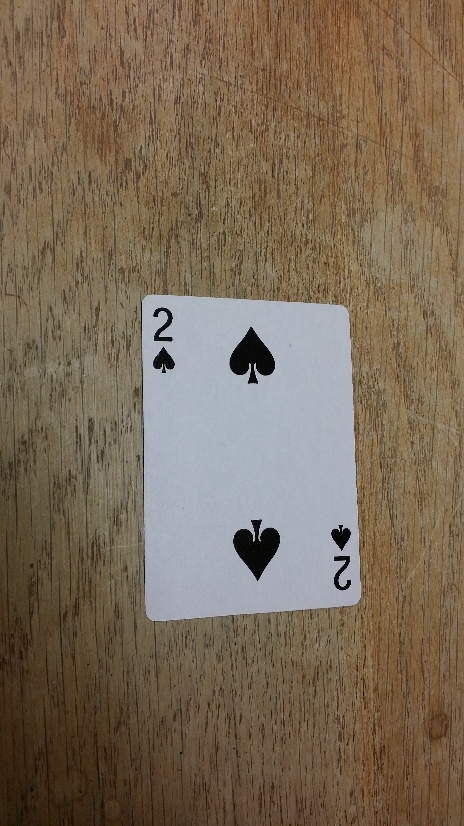S2: (145, 300, 182, 377), (321, 520, 356, 596)
